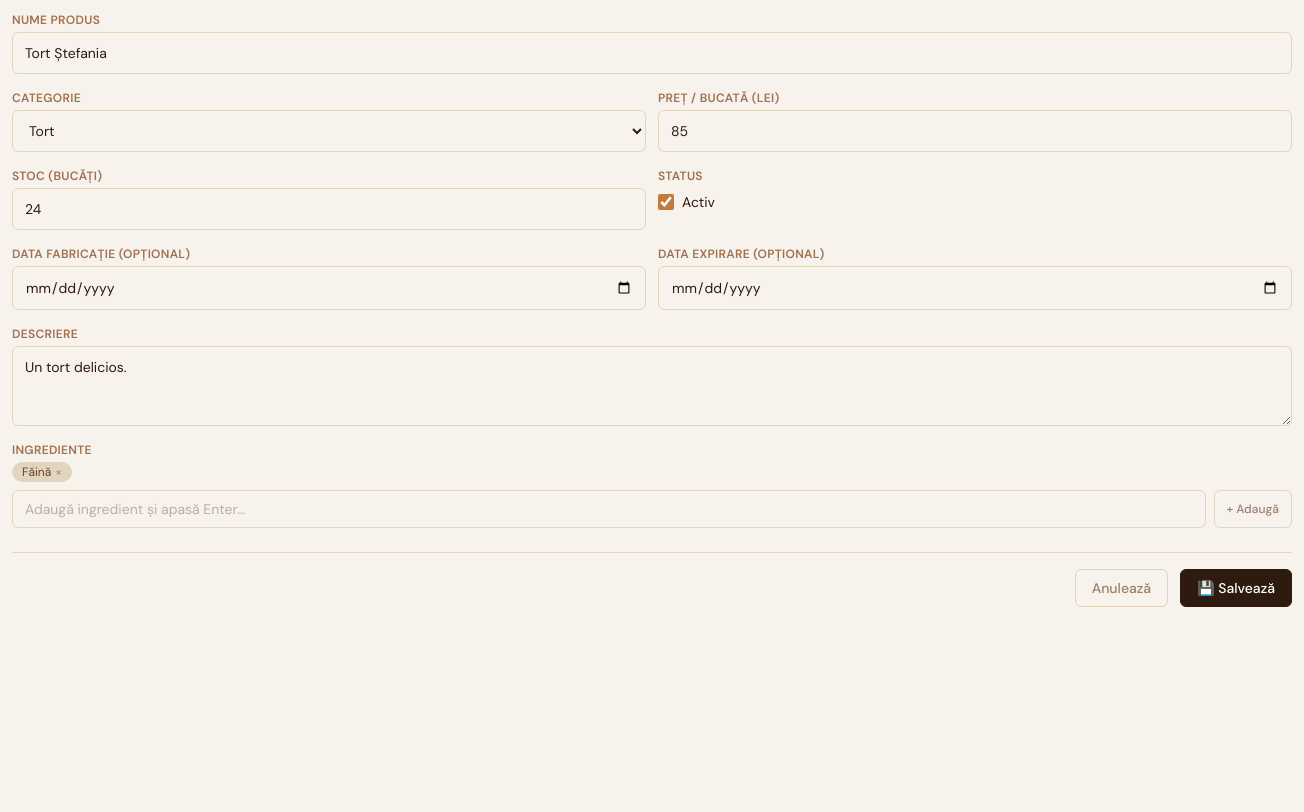
Test case: ProductForm — ingredients › removes an ingredient when × is clicked
Check: the text "Făină" is shown, box [22, 464, 51, 480]
Click the button named "Șterge Făină". click: x=59, y=472
box: [55, 466, 62, 478]
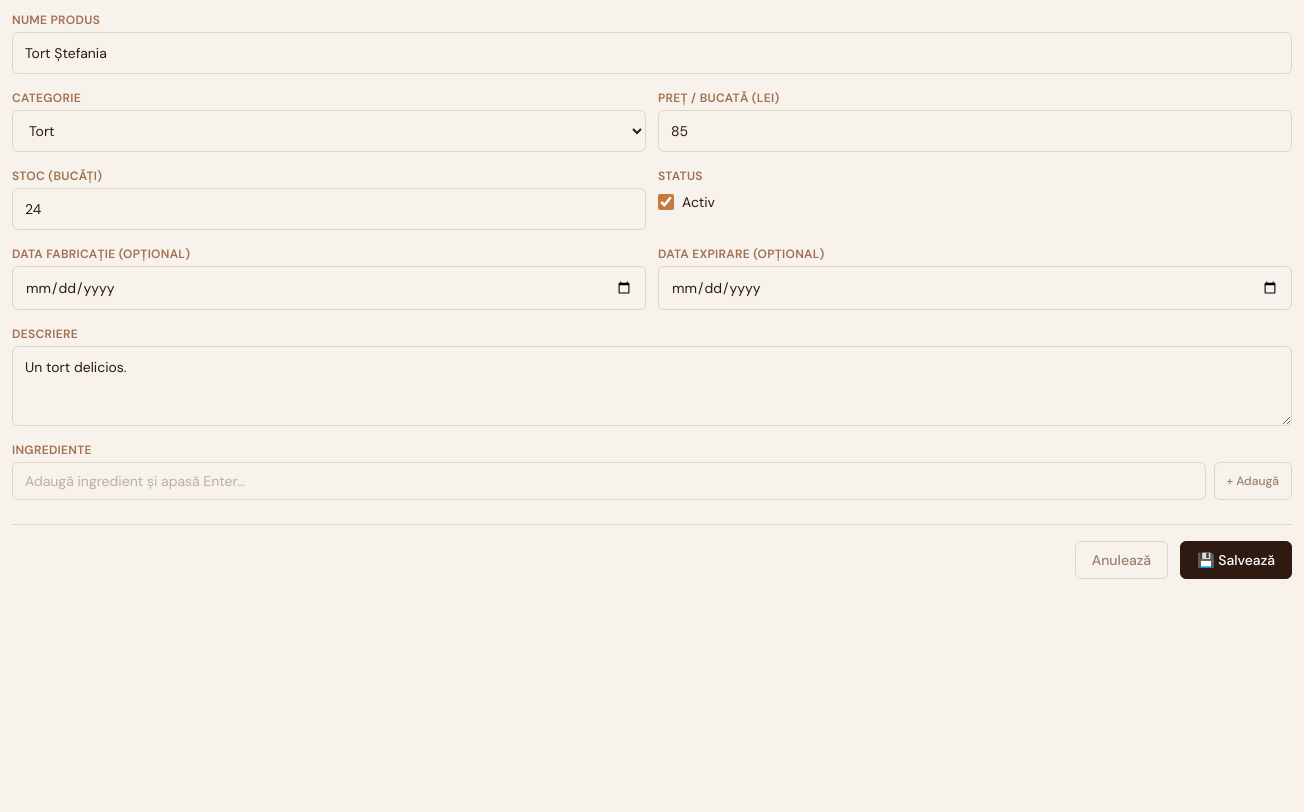
Check: the text "Făină" is gone
